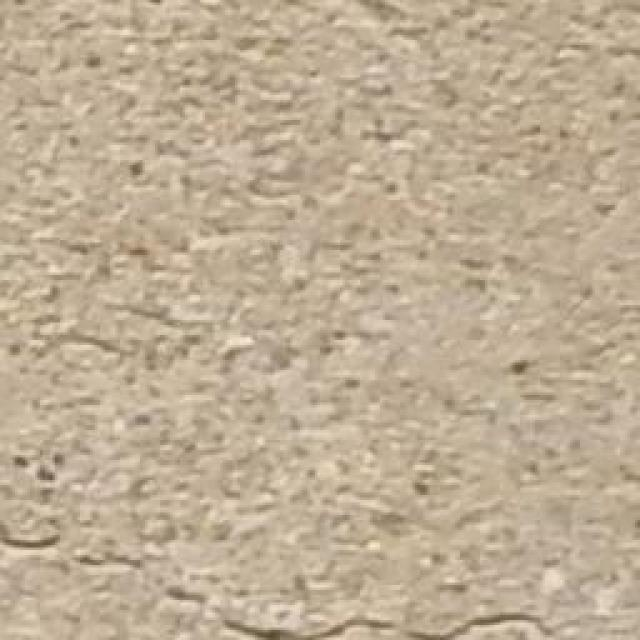concrete-crack: (0, 524, 556, 640)
